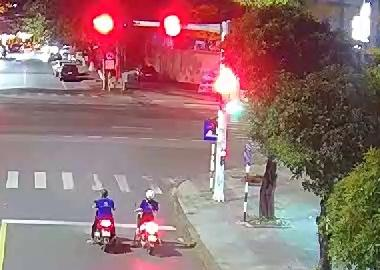red_light: (88, 10, 118, 38), (156, 15, 182, 37)
stop_line: (3, 219, 175, 230)
